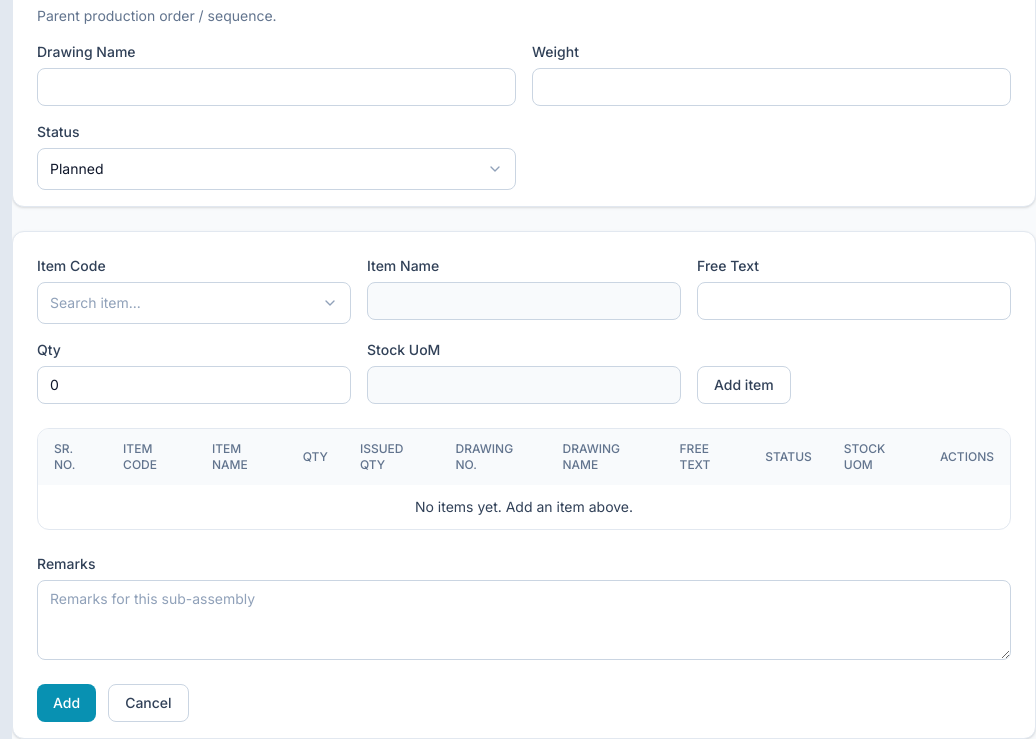
Scenario: SubassemblyFormPage › inherits the parent numbering and requires items before creating
(page scrolled)
Expected: the dropdown named "Item Code" is shown, [37,282,351,324]
Expected: the field labelled "Drawing Name" is shown, [37,68,516,106]
Click the button "Add".
click(67, 703)  # box [37,684,96,722]
(page scrolled)
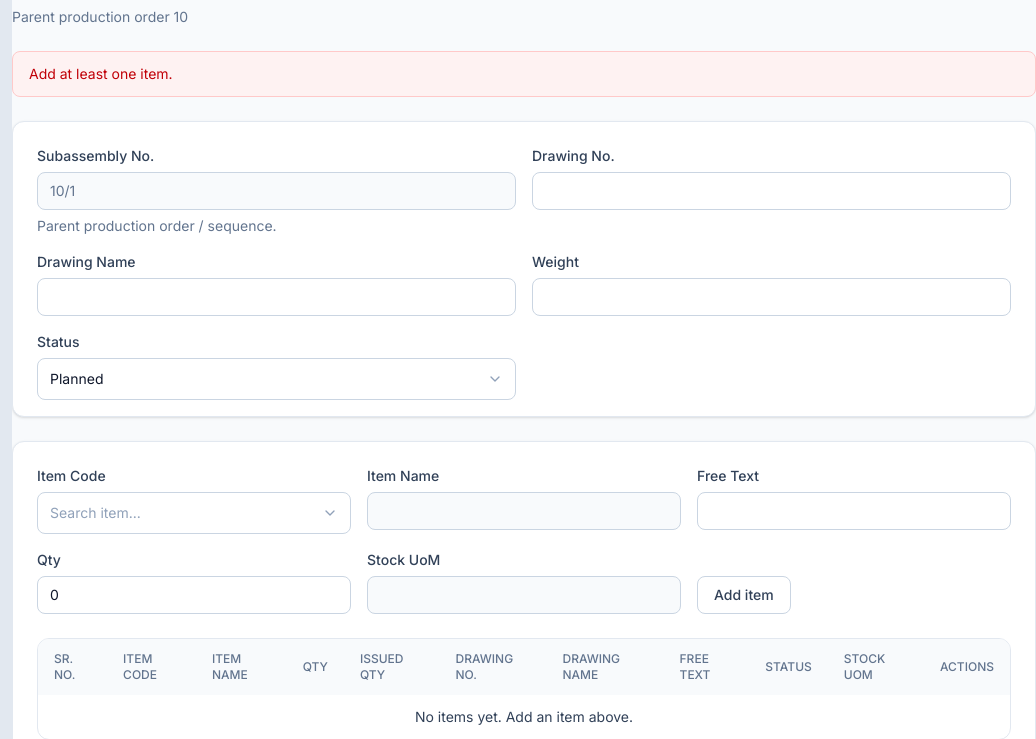
Result: the message reads "Add at least one item." at [29,65,173,82]
